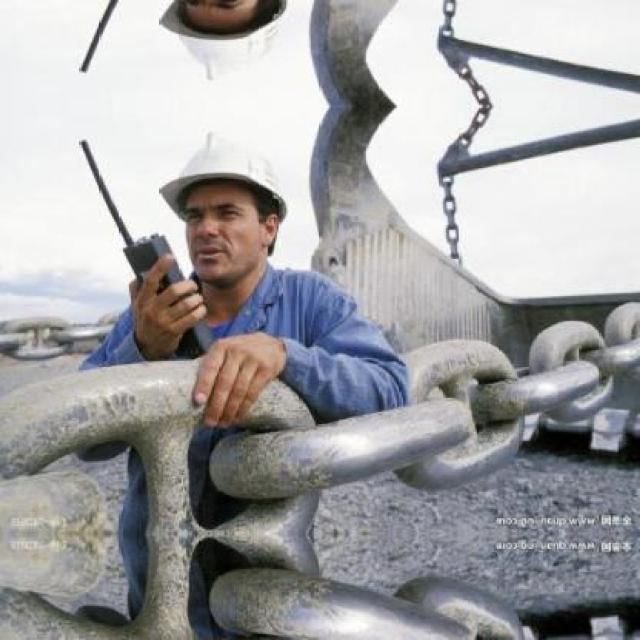safetyhelmet: (158, 130, 290, 241)
